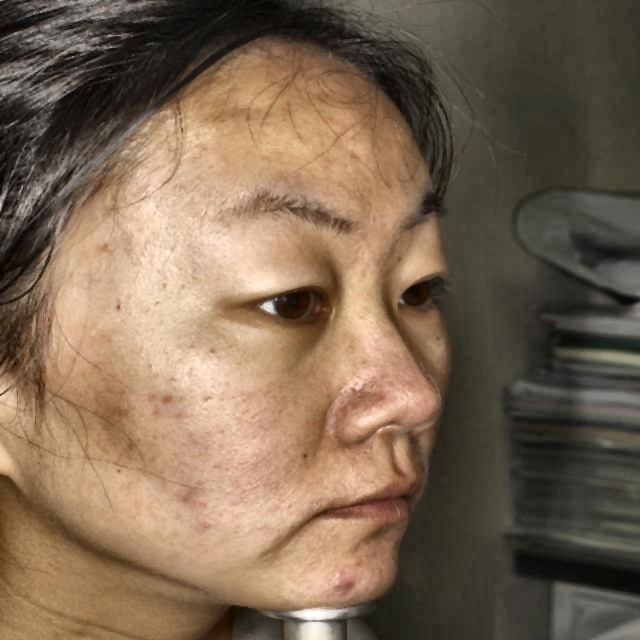comedone: (328, 566, 368, 602), (150, 384, 188, 418), (319, 59, 350, 89)
